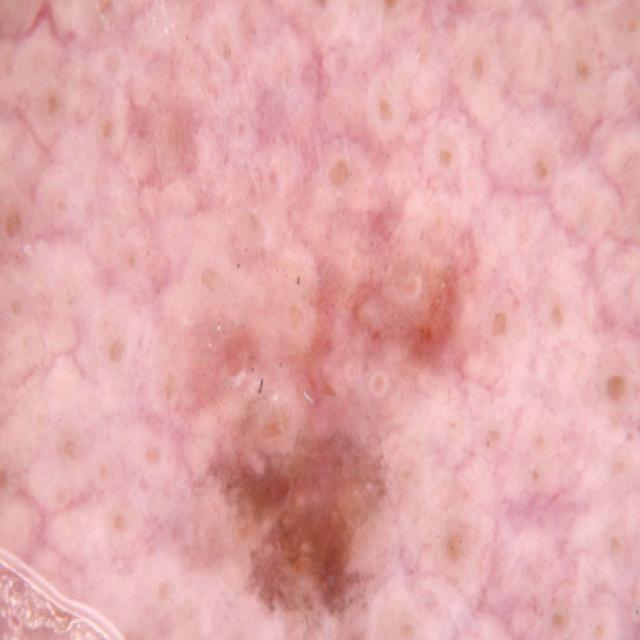Melanoma: (88, 205, 566, 640)
